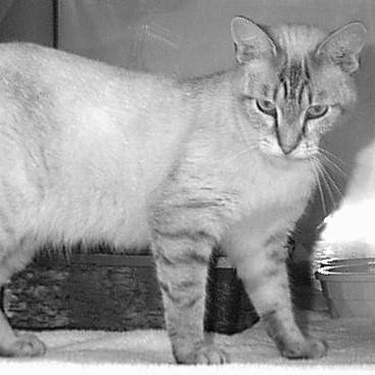cat: (1, 13, 370, 360)
